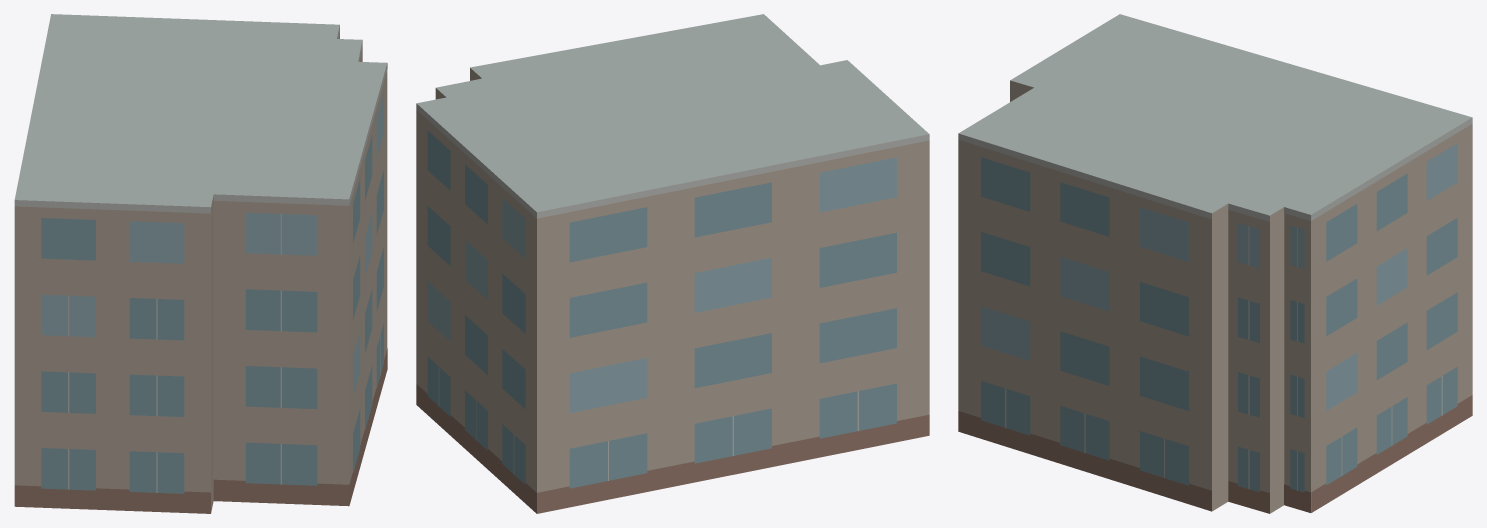
File: survey-upis-32805496.glb
3 renders of one model, left to right at view 1: azimuth 30°, elevation 25°; view 2: azimuth 150°, elevation 25°; view 3: azimuth 270°, elevation 25°, orthographic. The views are drawn at different scales.
Parts seen in each view (by area): view 1: survey-upis-32805496.tmp; view 2: survey-upis-32805496.tmp; view 3: survey-upis-32805496.tmp.
Boxes of the visible parts, box(x1,y1,x2,y2) form: survey-upis-32805496.tmp: box(14, 14, 387, 513); survey-upis-32805496.tmp: box(416, 14, 929, 513); survey-upis-32805496.tmp: box(958, 14, 1472, 513).
Size of the model in its own units: 17.13 by 11.8 by 18.45.
